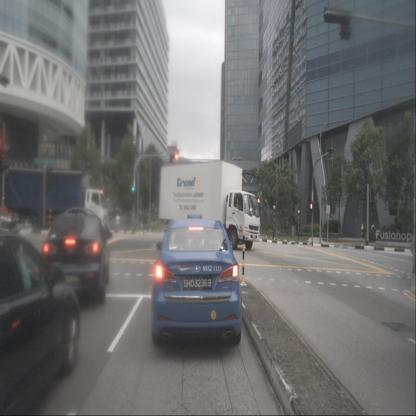human-pedestrian-adult: (370, 222, 376, 241), (116, 212, 120, 235), (108, 208, 112, 231), (360, 223, 364, 241)
vehicle-car: (0, 230, 80, 416), (151, 214, 242, 344), (42, 208, 109, 302)
vehicle-truck: (160, 161, 260, 250), (7, 169, 108, 233)
